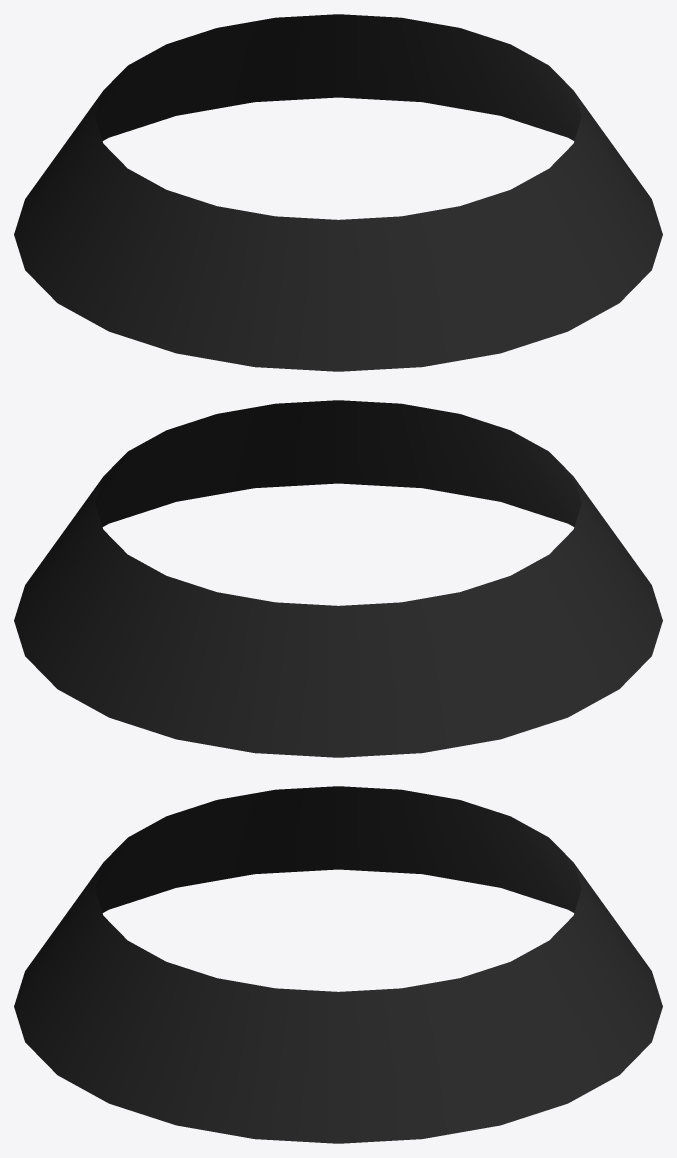
Rendered from tantares_adapter_s1_s0p5_1.obj.
3 views of the same model, one above another, from view 1: azimuth 30°, elevation 25°; view 2: azimuth 150°, elevation 25°; view 3: azimuth 270°, elevation 25° (orthographic).
Visible parts, largest first — view 1: mesh; view 2: mesh; view 3: mesh.
Boxes of the visible parts, bbox=[...] form: mesh: bbox=[14, 14, 662, 371]; mesh: bbox=[14, 400, 662, 757]; mesh: bbox=[14, 786, 662, 1143].
Bounding box in the file's own units: 1.25 × 0.25 × 1.25.
